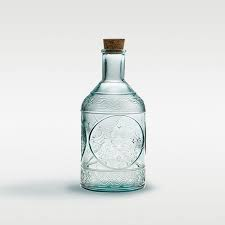glass_bottle: (71, 32, 158, 198)
